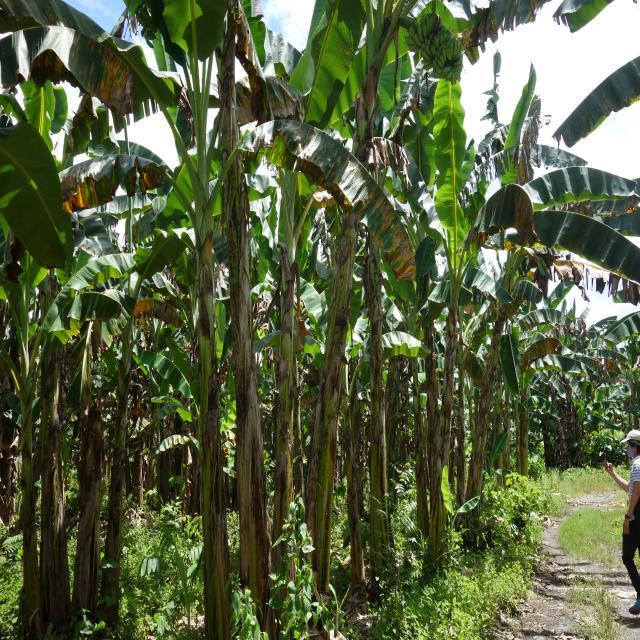Banana-plant: (208, 51, 274, 610), (176, 105, 226, 637), (304, 224, 367, 608), (463, 245, 521, 551), (268, 211, 309, 614), (362, 204, 402, 614), (31, 243, 72, 631), (420, 298, 465, 578), (9, 335, 39, 636), (112, 320, 128, 625)
